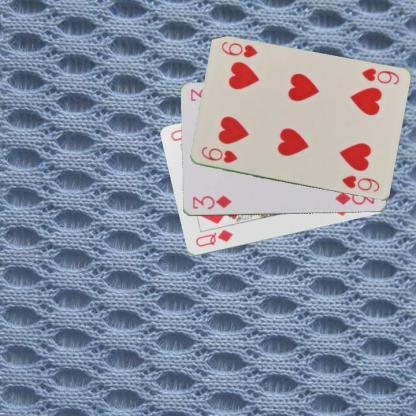3d: (190, 193, 232, 211)
6h: (359, 65, 400, 86), (198, 144, 238, 165)
Qd: (192, 227, 234, 249)
